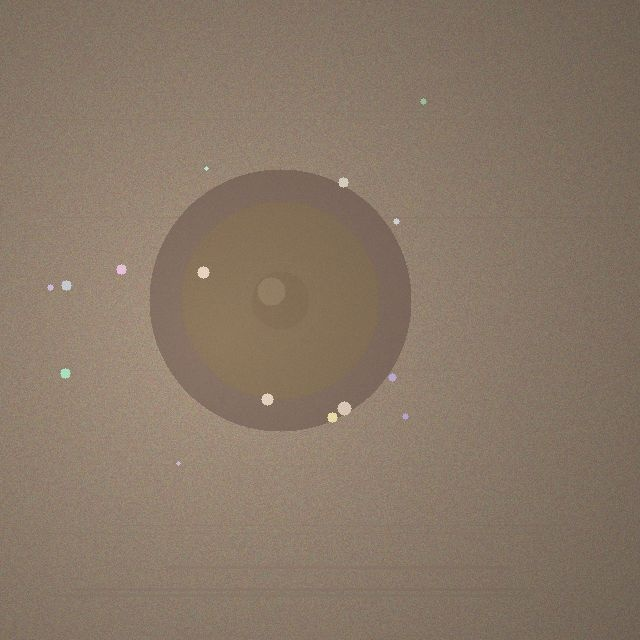overburn: (149, 169, 411, 431)
